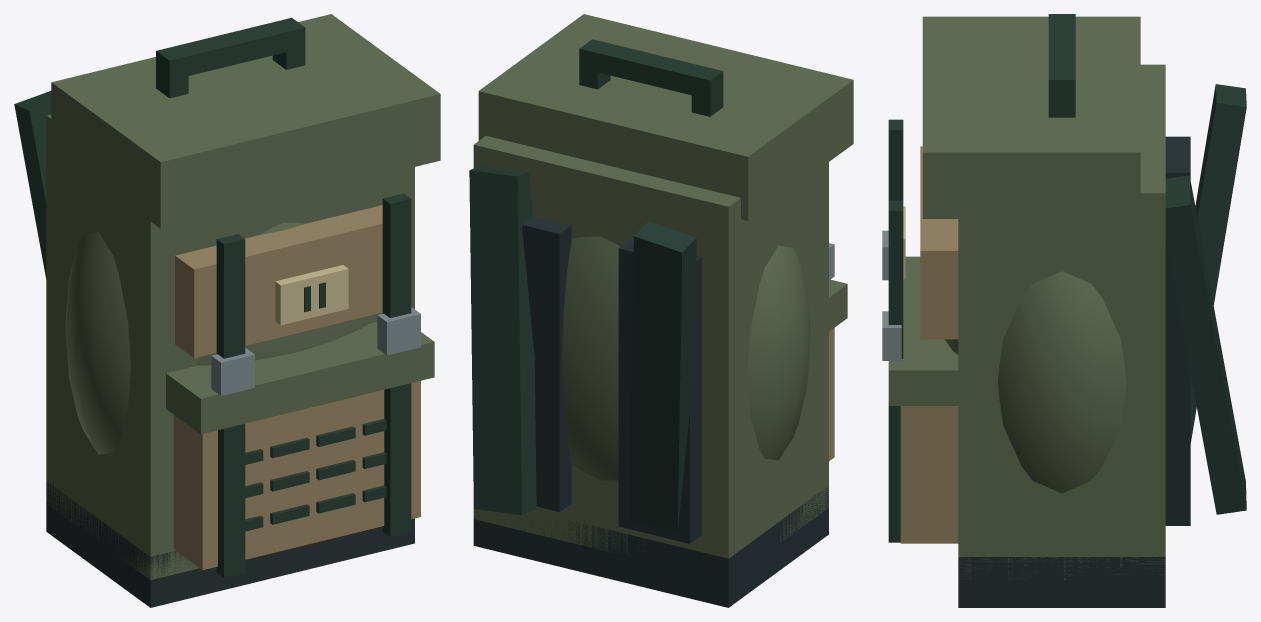
The model's file is FSA_ITEM_Backpack_Level2.glb.
3 renders of one model, left to right at view 1: azimuth 30°, elevation 25°; view 2: azimuth 150°, elevation 25°; view 3: azimuth 270°, elevation 25°, orthographic. The views are drawn at different scales.
Parts seen in each view (by area): view 1: TopFlap, BagCore, FrontPocket, UpperPocket, PocketFlap, SoftShell, BottomReinforce, FrontStrap_-1, FrontStrap_1, CarryHandle, ShoulderStrap_-1, Patch (+4 smaller); view 2: BagCore, TopFlap, SoftShell, ShoulderStrap_1, ShoulderStrap_-1, BottomReinforce, BackPadding_1, BackPadding_-1, CarryHandle, HandlePost_-1, PocketFlap, FrontPocket (+1 smaller); view 3: BagCore, TopFlap, SoftShell, ShoulderStrap_1, BottomReinforce, FrontPocket, ShoulderStrap_-1, BackPadding_1, PocketFlap, UpperPocket, FrontStrap_1, CarryHandle (+4 smaller).
Part boxes in pixels (left/top/right/bottom): TopFlap: left=51, top=14, right=440, bottom=228; BagCore: left=46, top=114, right=414, bottom=580; FrontPocket: left=173, top=381, right=420, bottom=570; UpperPocket: left=175, top=205, right=382, bottom=358; PocketFlap: left=166, top=322, right=434, bottom=434; SoftShell: left=65, top=222, right=368, bottom=454; BottomReinforce: left=46, top=481, right=414, bottom=607; FrontStrap_-1: left=216, top=234, right=245, bottom=577; FrontStrap_1: left=382, top=193, right=411, bottom=536; CarryHandle: left=156, top=17, right=305, bottom=79; ShoulderStrap_-1: left=14, top=91, right=51, bottom=278; Patch: left=275, top=265, right=348, bottom=325; BagCore: left=473, top=136, right=828, bottom=558; TopFlap: left=478, top=14, right=853, bottom=220; SoftShell: left=562, top=236, right=810, bottom=480; ShoulderStrap_1: left=469, top=165, right=536, bottom=514; ShoulderStrap_-1: left=629, top=221, right=696, bottom=530; BottomReinforce: left=473, top=486, right=828, bottom=607; BackPadding_1: left=522, top=216, right=571, bottom=511; BackPadding_-1: left=618, top=239, right=701, bottom=543; CarryHandle: left=579, top=39, right=723, bottom=99; HandlePost_-1: left=691, top=78, right=723, bottom=116; PocketFlap: left=829, top=279, right=847, bottom=331; FrontPocket: left=829, top=328, right=834, bottom=460; BagCore: left=958, top=64, right=1165, bottom=579; TopFlap: left=922, top=16, right=1140, bottom=218; SoftShell: left=945, top=271, right=1126, bottom=493; ShoulderStrap_1: left=1165, top=175, right=1246, bottom=514; BottomReinforce: left=958, top=557, right=1165, bottom=607; FrontPocket: left=900, top=406, right=958, bottom=543; ShoulderStrap_-1: left=1190, top=84, right=1246, bottom=442; BackPadding_1: left=1165, top=238, right=1190, bottom=525; PocketFlap: left=888, top=256, right=958, bottom=405; UpperPocket: left=920, top=146, right=958, bottom=339; FrontStrap_1: left=888, top=200, right=903, bottom=542; CarryHandle: left=1048, top=14, right=1075, bottom=99.
Bounding box in the file's own units: 0.29 × 0.449 × 0.2988.
